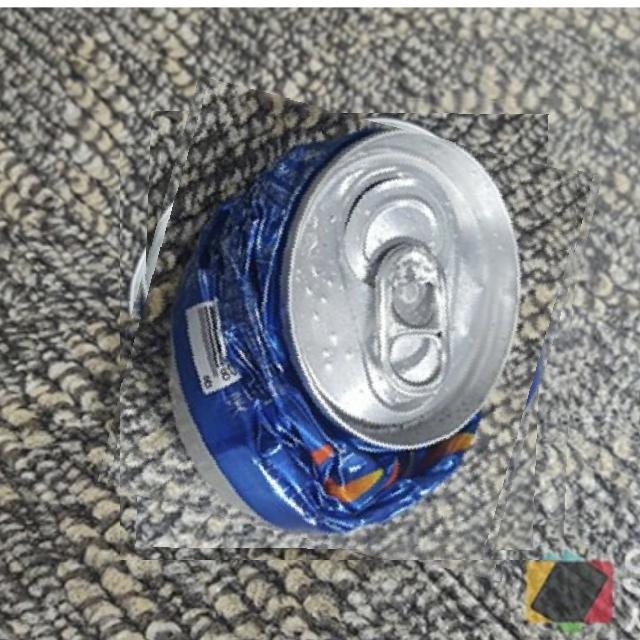recyclable: (120, 98, 580, 560)
